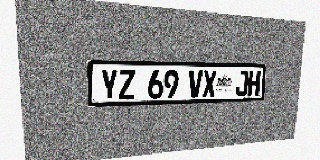6: (148, 70, 164, 99)
9: (164, 70, 179, 98)
H: (248, 71, 261, 96)
J: (235, 71, 249, 96)
V: (188, 70, 203, 98)
X: (202, 70, 216, 97)
Y: (100, 69, 118, 100)
Z: (118, 69, 135, 100)
